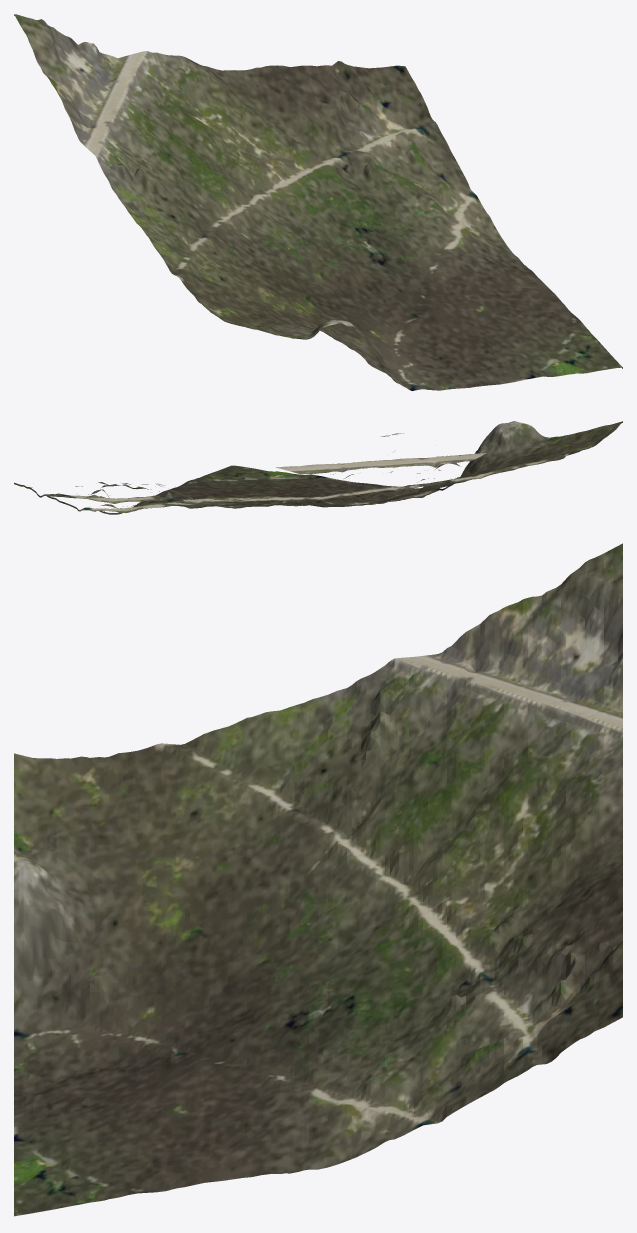
3 views of the same model, one above another, from view 1: azimuth 30°, elevation 25°; view 2: azimuth 150°, elevation 25°; view 3: azimuth 270°, elevation 25° (orthographic). The views are drawn at different scales.
Bounding box in the file's own units: 250 × 178 × 241.
Materials: 1 (1 with a texture image).
